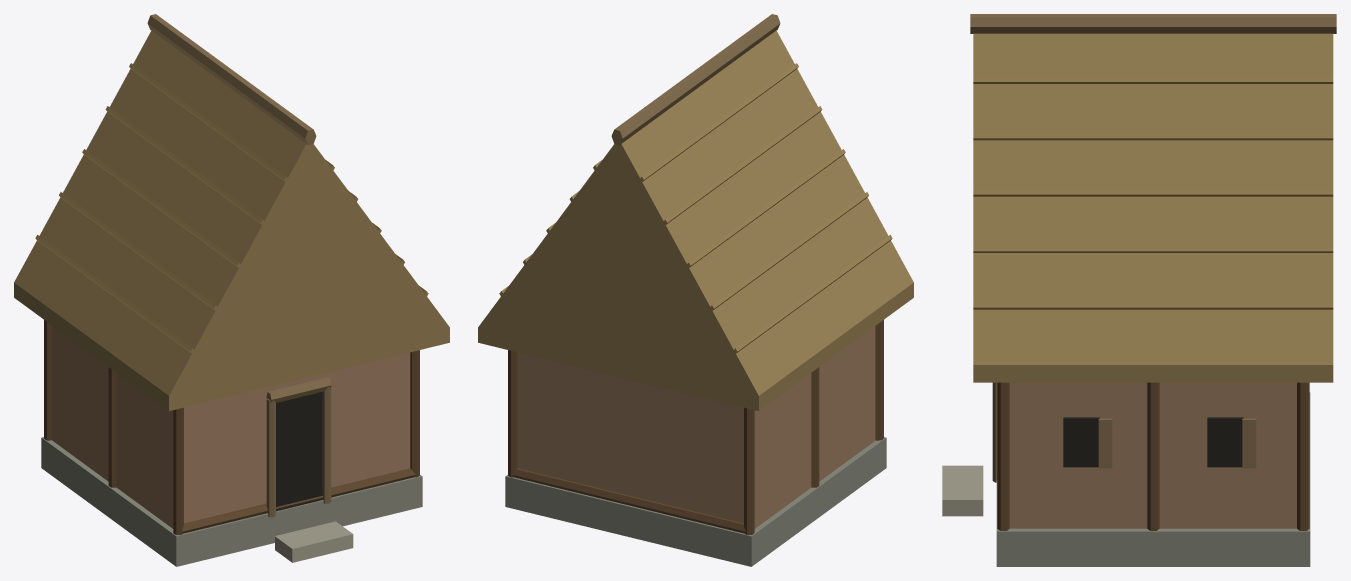
File: house_small.glb
3 views of the same model, side by side, from view 1: azimuth 30°, elevation 25°; view 2: azimuth 150°, elevation 25°; view 3: azimuth 270°, elevation 25° (orthographic). The views are drawn at different scales.
Parts seen in each view (by area): view 1: House_small_12m2; view 2: House_small_12m2; view 3: House_small_12m2.
Part boxes in pixels (<box>): House_small_12m2: <box>14,14,449,566</box>; House_small_12m2: <box>478,14,913,566</box>; House_small_12m2: <box>942,14,1336,566</box>.
Bounding box in the file's own units: 4.24 × 6 × 4.44.
